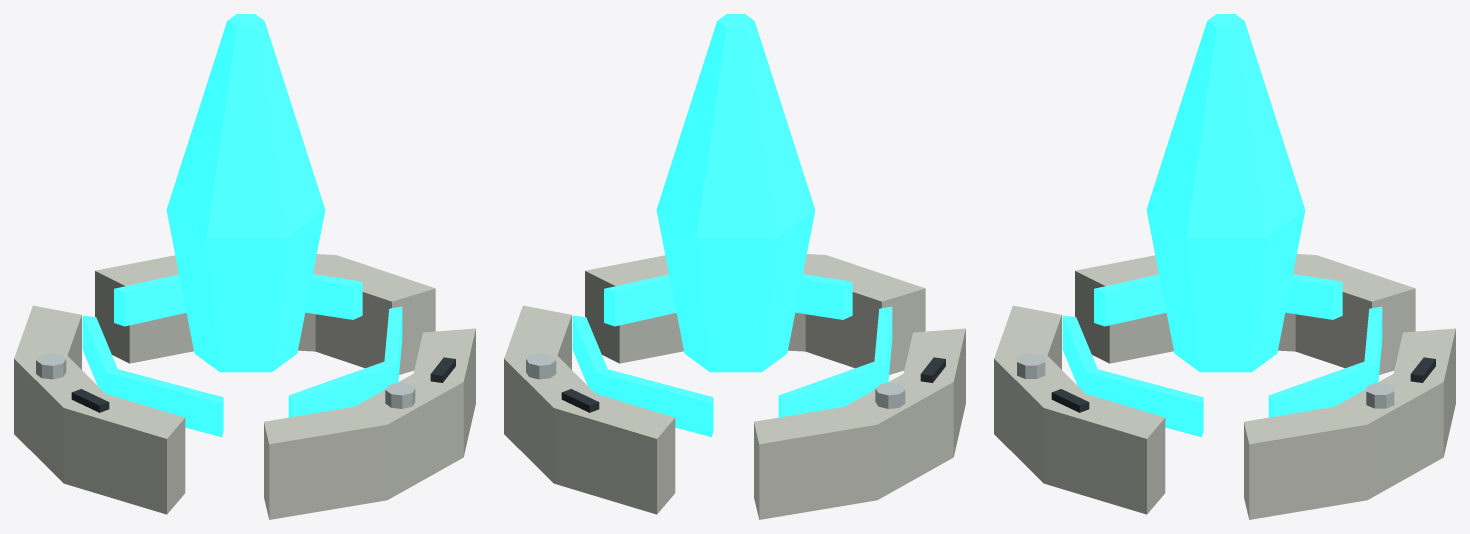
The model's file is City_TrafficSignal_FieldStabilizer_R.glb.
3 views of the same model, side by side, from view 1: azimuth 30°, elevation 25°; view 2: azimuth 150°, elevation 25°; view 3: azimuth 270°, elevation 25° (orthographic).
Parts seen in each view (by area): view 1: City_TrafficSignal_FieldStabilizer_R; view 2: City_TrafficSignal_FieldStabilizer_R; view 3: City_TrafficSignal_FieldStabilizer_R.
Boxes of the visible parts, x1,y1,x2,y2 form: City_TrafficSignal_FieldStabilizer_R: (14, 14, 475, 519); City_TrafficSignal_FieldStabilizer_R: (504, 14, 965, 519); City_TrafficSignal_FieldStabilizer_R: (994, 14, 1455, 519).
Size of the model in its own units: 0.5553 by 0.53 by 0.5533.
